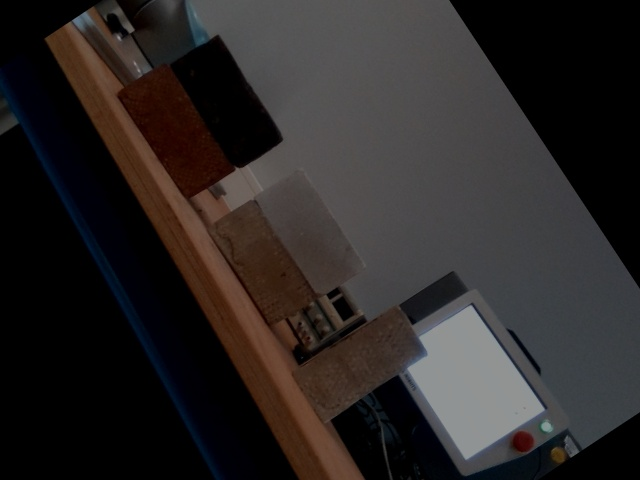brick: (294, 307, 426, 419), (122, 66, 228, 193), (175, 40, 279, 165), (259, 174, 360, 293), (212, 204, 310, 320)
